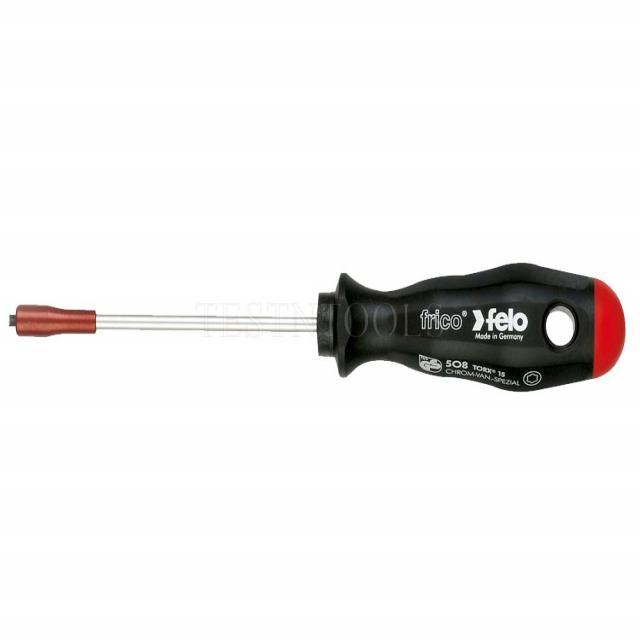screwdriver: (4, 253, 629, 399)
